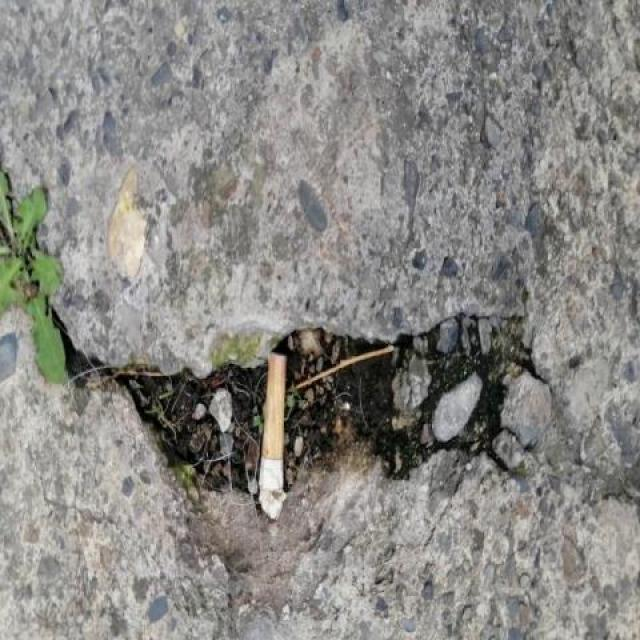non-organic waste: (249, 338, 299, 502)
